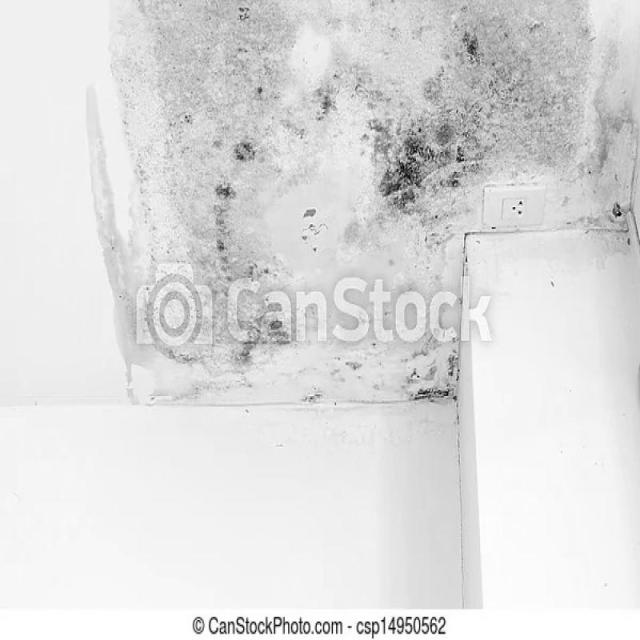stain marks: (45, 1, 640, 439)
